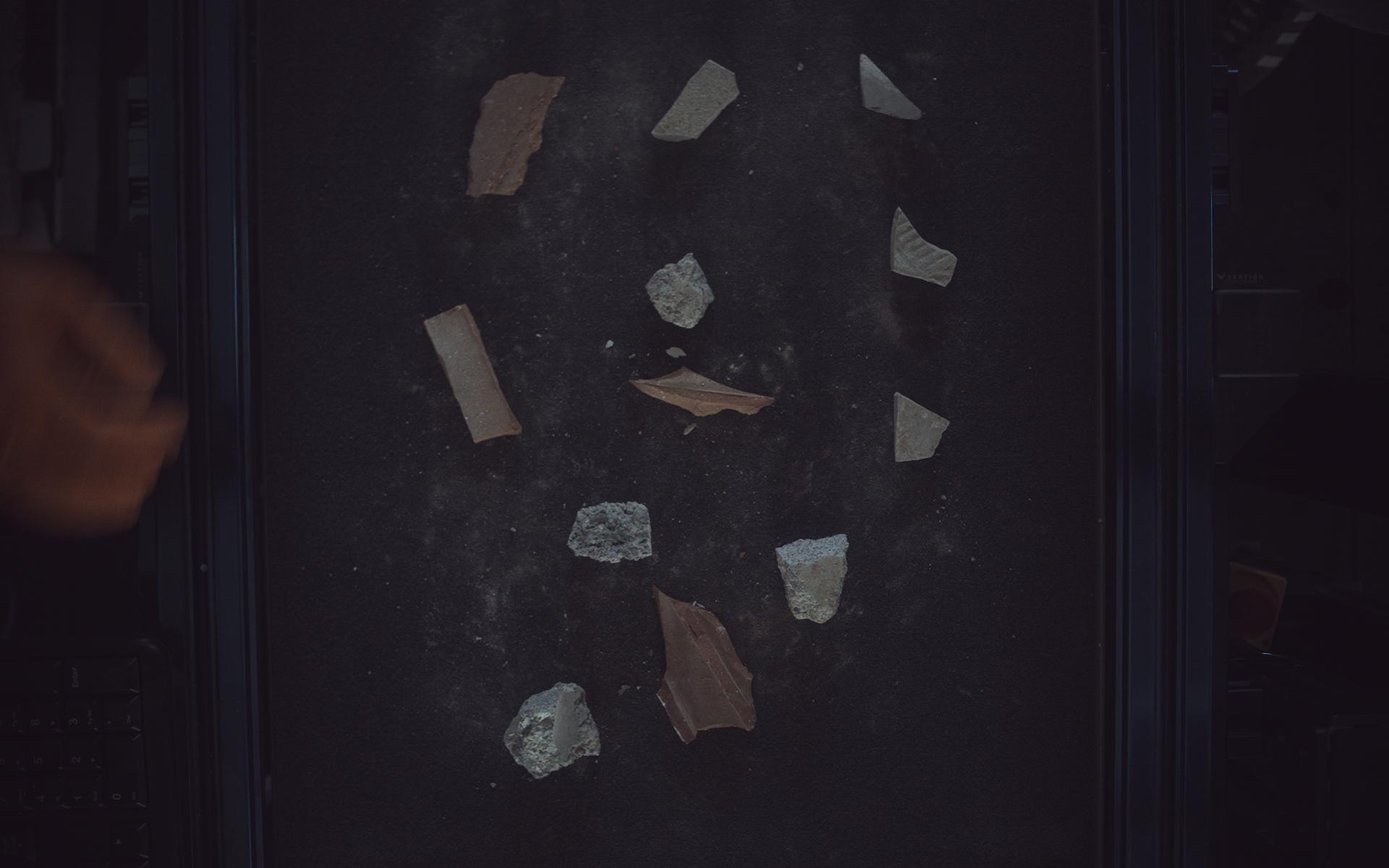brick: (654, 587, 757, 744), (424, 304, 522, 443), (467, 72, 565, 196), (631, 367, 776, 417)
concrete: (504, 684, 600, 780), (777, 535, 851, 624), (647, 252, 715, 328), (569, 502, 653, 563)
tile: (653, 59, 740, 140), (893, 207, 959, 286), (862, 53, 923, 119), (896, 392, 951, 462)
